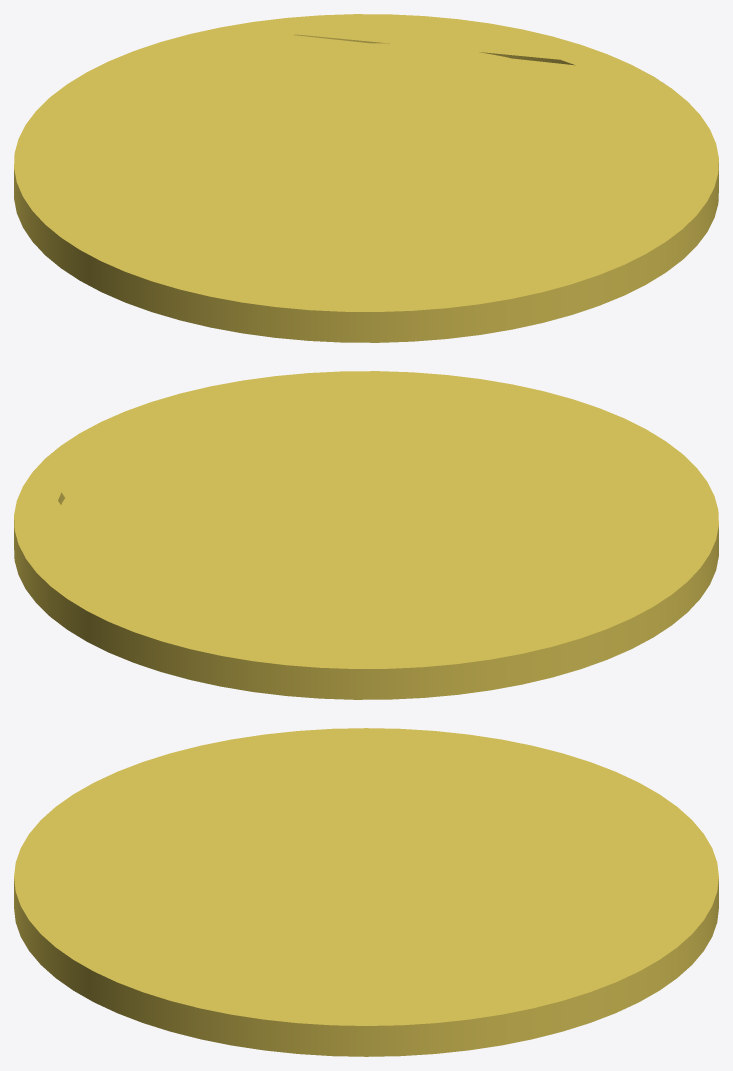
File: coin.fbx
The picture shows the model from 3 angles, top to bottom: view 1: azimuth 30°, elevation 25°; view 2: azimuth 150°, elevation 25°; view 3: azimuth 270°, elevation 25°; orthographic projection.
Parts seen in each view (by area): view 1: Roundcube; view 2: Roundcube; view 3: Roundcube.
Part boxes in pixels (bbox=[...]): Roundcube: bbox=[14, 14, 718, 342]; Roundcube: bbox=[14, 371, 718, 699]; Roundcube: bbox=[14, 728, 718, 1056].
Bounding box in the file's own units: 187 × 9.02 × 187.
